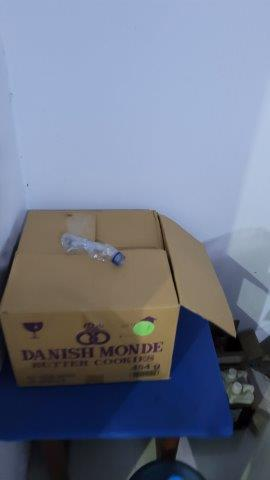botolplastik: (59, 232, 127, 267)
